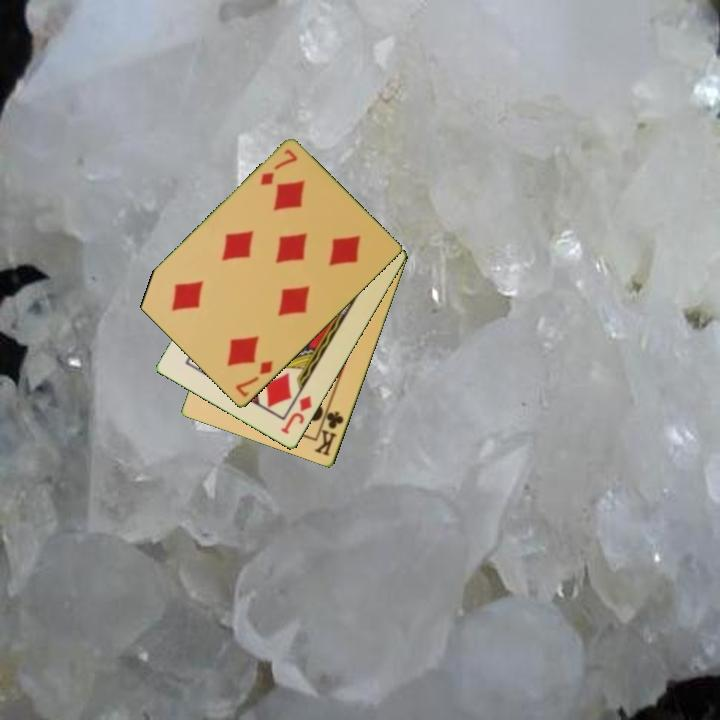7d: (232, 357, 276, 401), (257, 146, 300, 189)
Jd: (278, 392, 315, 438)
Kc: (311, 402, 347, 459)
